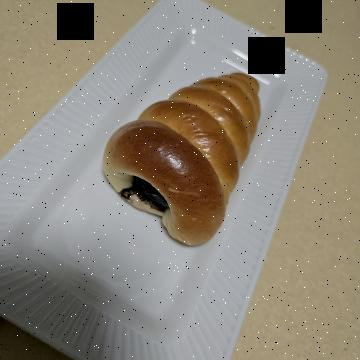cream horn: (51, 84, 257, 280)
